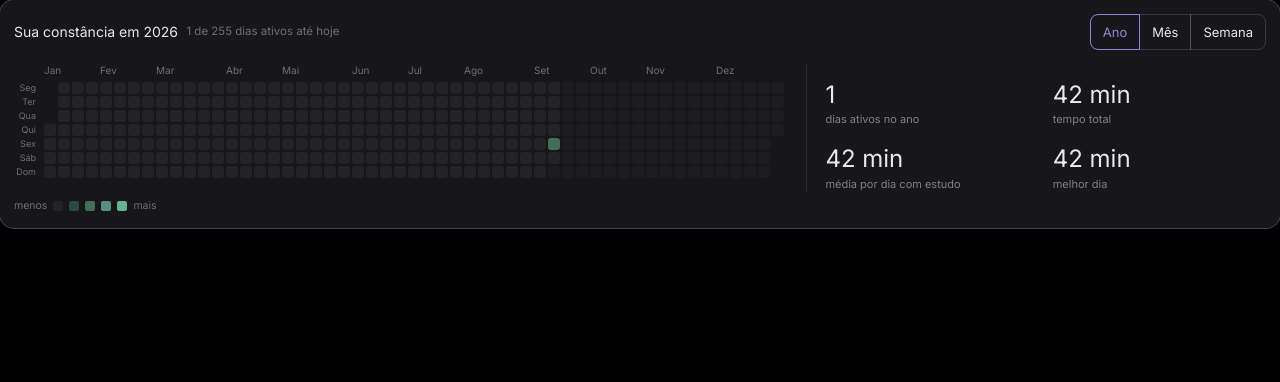
Test case: no recorte ano, o dia mostra o que foi feito e quanto tempo
Hover over the picture named "11 de setembro" at (554, 144), box [548,138,560,150]
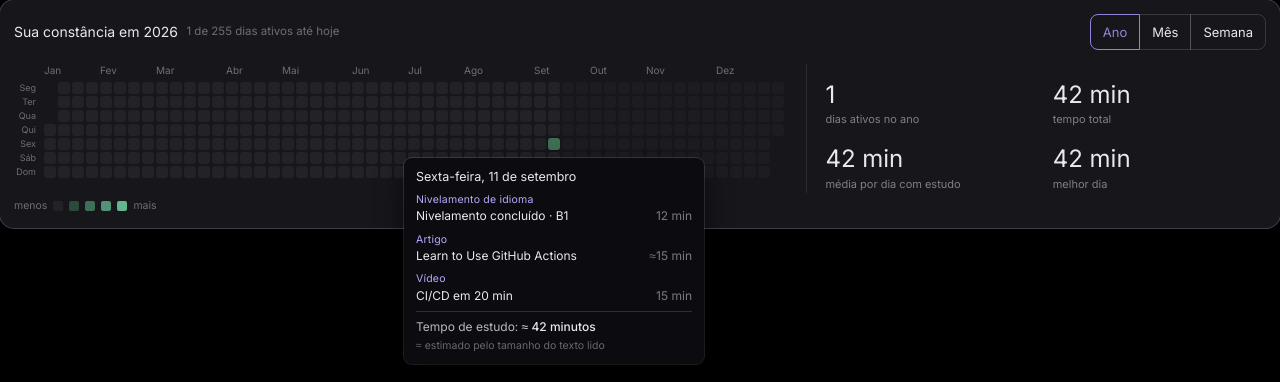
Check: the text "Sexta-feira, 11 de setembro" is shown, box [416,169,576,184]
Check: the text "Artigo" is shown, box [416,233,447,246]
Check: the text "Learn to Use GitHub Actions" is shown, box [416,248,577,263]
Move the pointer off the picture named "11 de setembro", box [548,138,560,150]
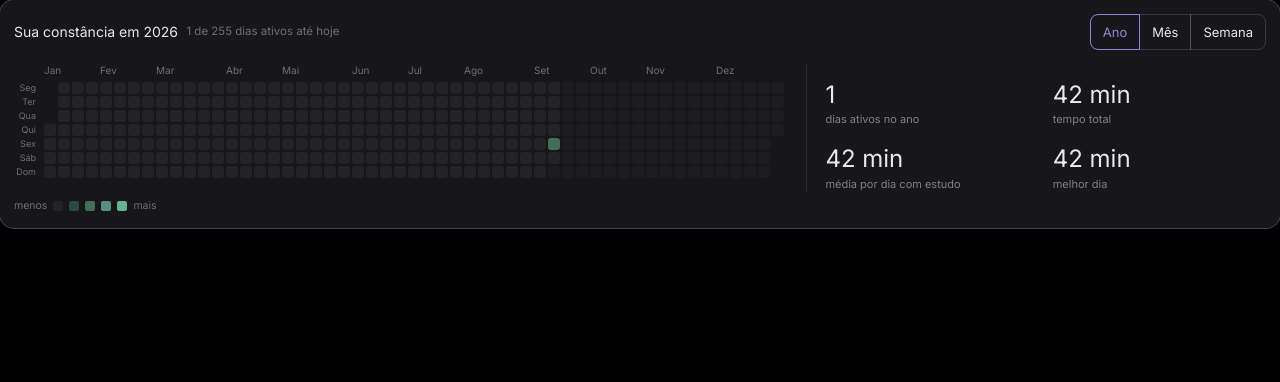
Check: the tooltip "Sexta-feira, 11 de setembro Nivelamento de idioma Nivelamento concluído · B1 12" is gone
